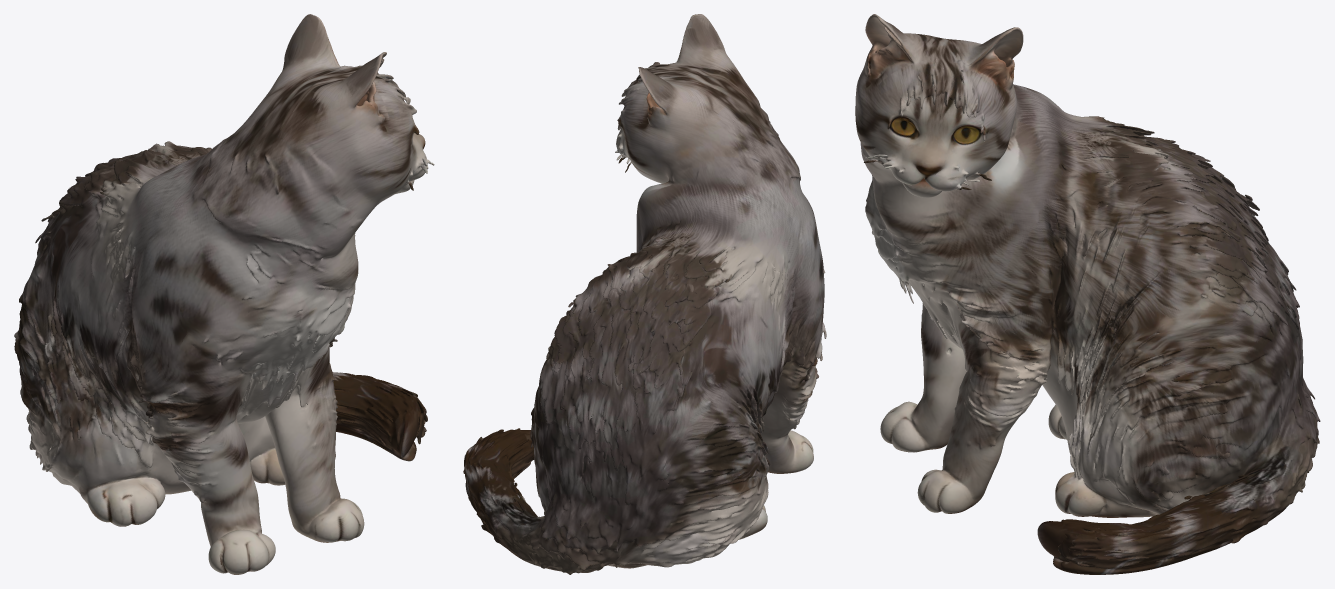
File: ship_cat.glb
3 renders of one model, left to right at view 1: azimuth 30°, elevation 25°; view 2: azimuth 150°, elevation 25°; view 3: azimuth 270°, elevation 25°, orthographic. The views are drawn at different scales.
Parts seen in each view (by area): view 1: tripo_node_79447339-cfd7-41ef-945b-bbf47ddef272; view 2: tripo_node_79447339-cfd7-41ef-945b-bbf47ddef272; view 3: tripo_node_79447339-cfd7-41ef-945b-bbf47ddef272.
Part boxes in pixels (x1,y1,x2,y2): tripo_node_79447339-cfd7-41ef-945b-bbf47ddef272: [14, 14, 434, 574]; tripo_node_79447339-cfd7-41ef-945b-bbf47ddef272: [463, 14, 826, 574]; tripo_node_79447339-cfd7-41ef-945b-bbf47ddef272: [855, 14, 1320, 574].
Bounding box in the file's own units: 0.7447 × 1 × 0.8409.
Materials: 1 (1 with a texture image).
